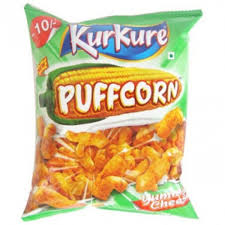kurkure: (66, 21, 169, 62)
plastic: (30, 5, 198, 225)
